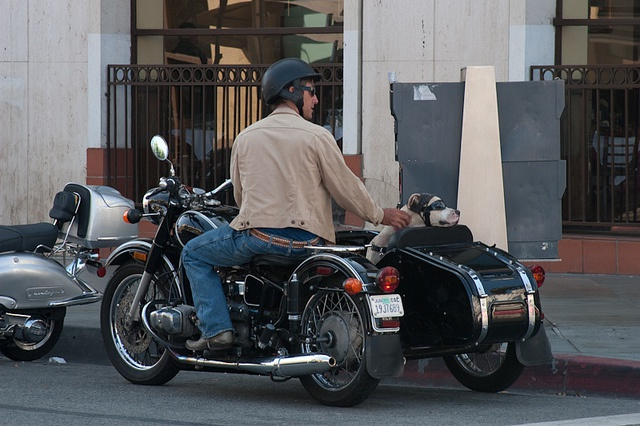non-vehicle: (98, 129, 555, 405), (0, 180, 142, 363)
